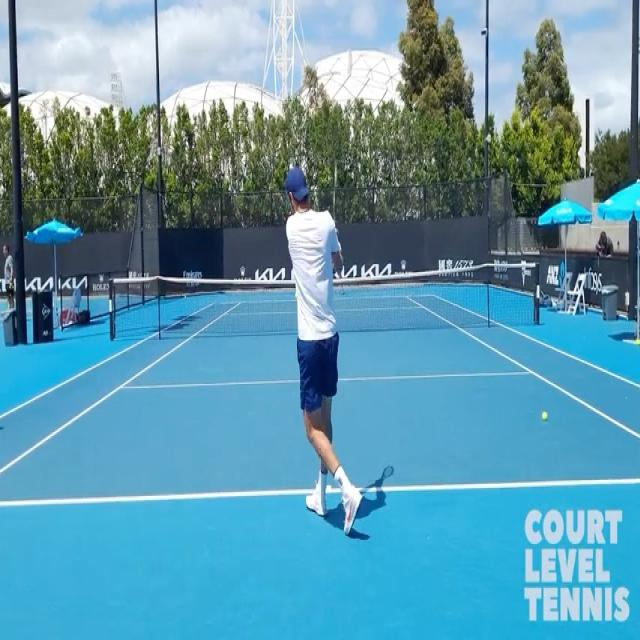backhand-stroke: (249, 137, 381, 587)
